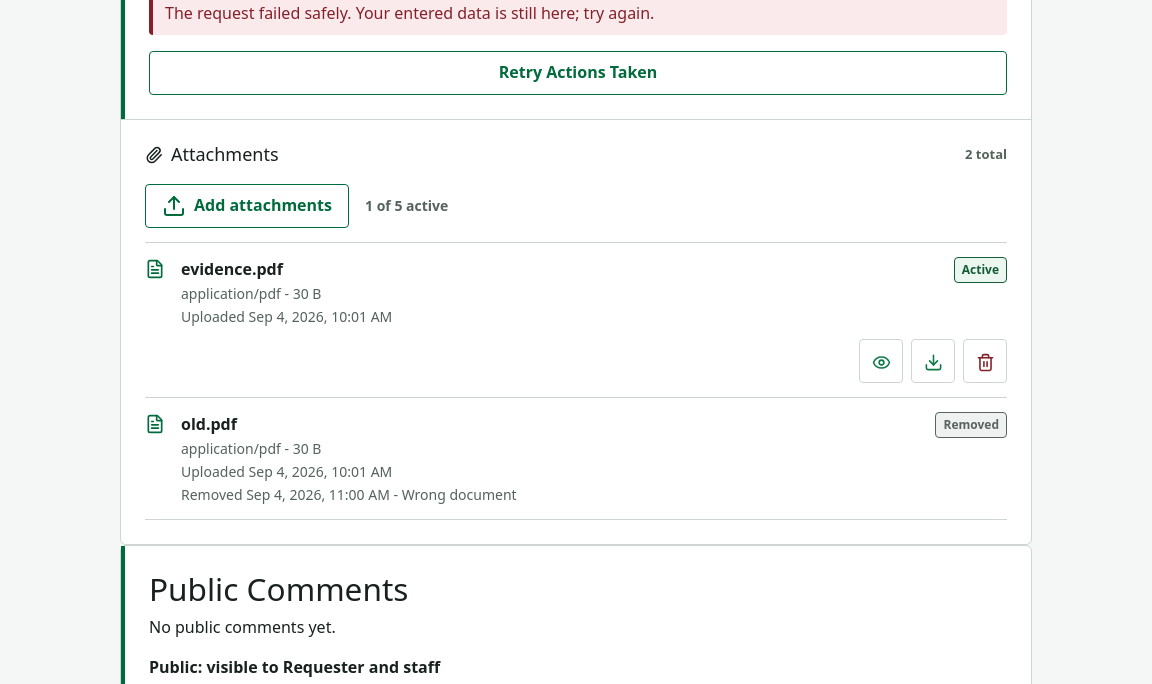
Test case: Ticket Detail attachment section › requires a reason, soft-removes metadata, and hides content actions
(page scrolled)
Click the button named "Remove evidence.pdf" at point(985, 360), box [963,338,1007,382]
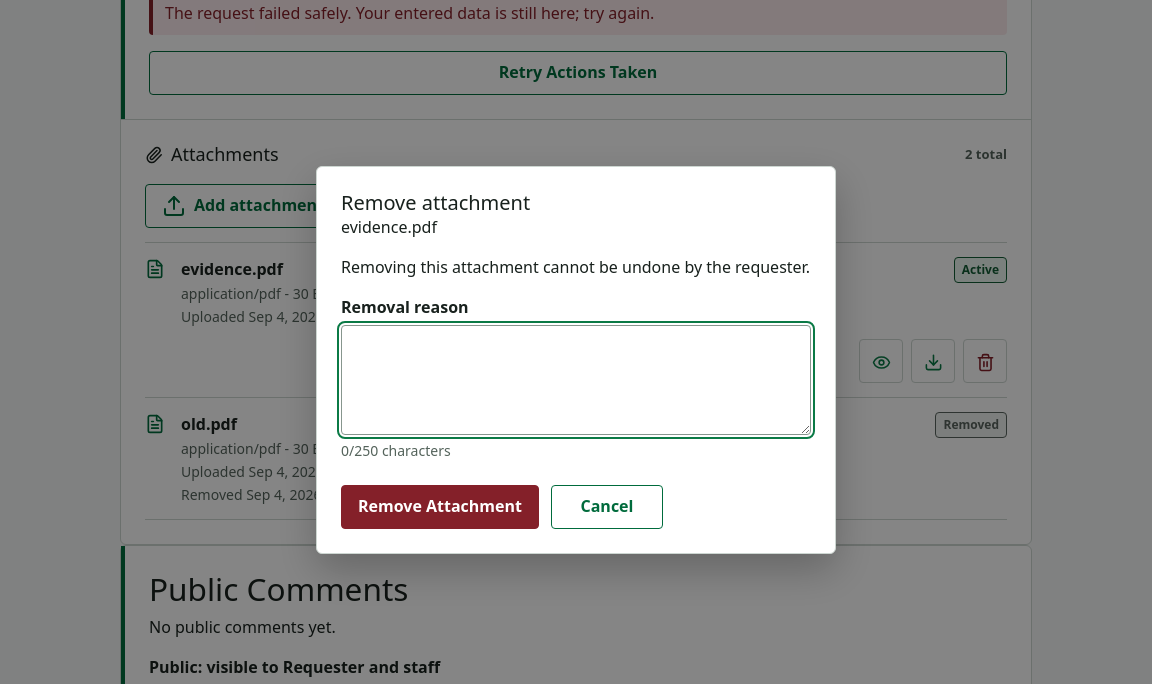
Click the button "Remove Attachment" at point(440, 507), box [341,485,539,529]
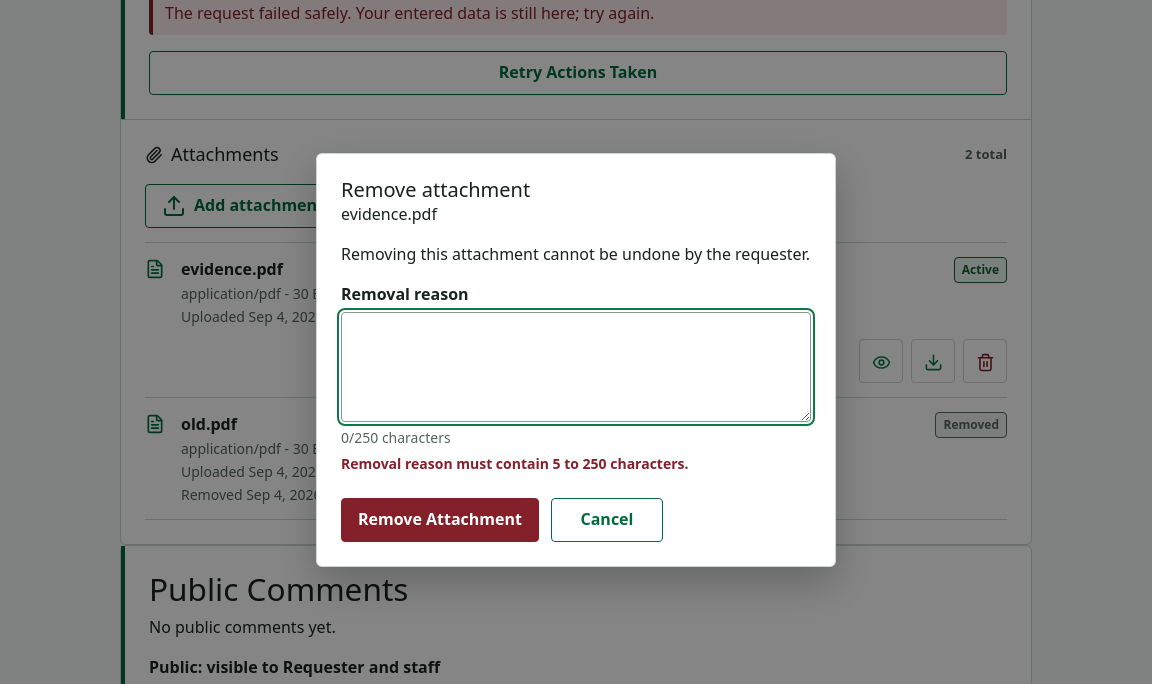
Expected: the text "Removal reason must contain 5 to 250 characters." is shown, [341,454,688,473]
Type "  Uploaded by mistake  " into the text box labelled "Removal reason" at point(576, 367), box [341,312,811,422]
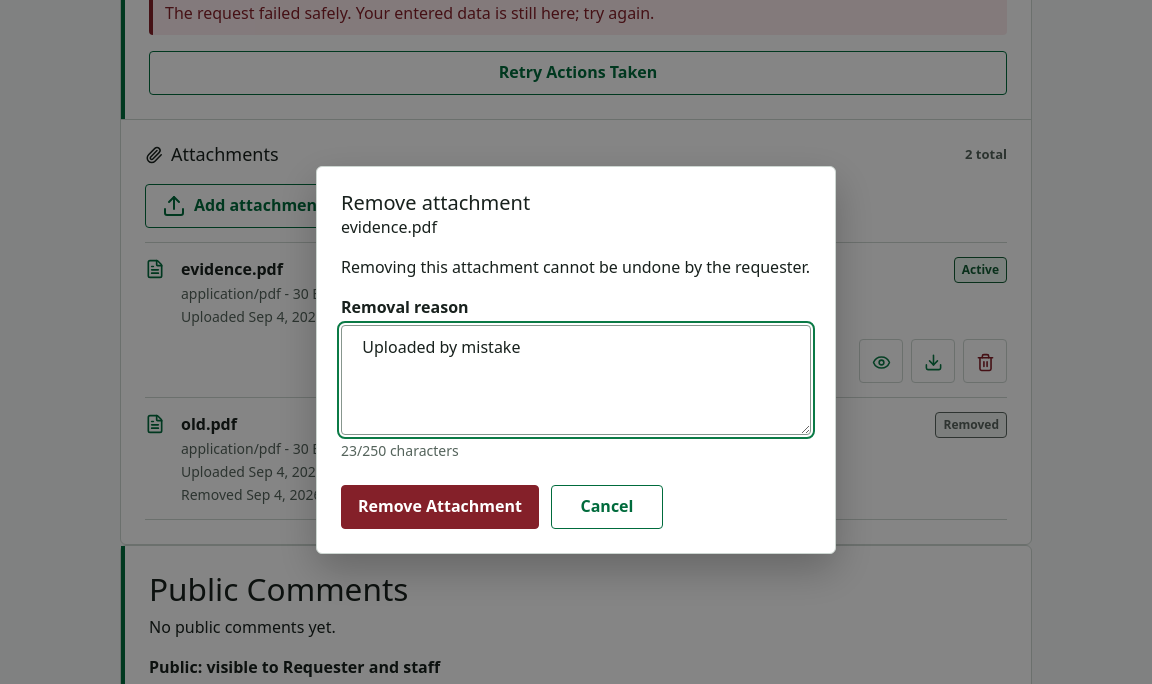
Click the button "Remove Attachment" at point(440, 507), box [341,485,539,529]
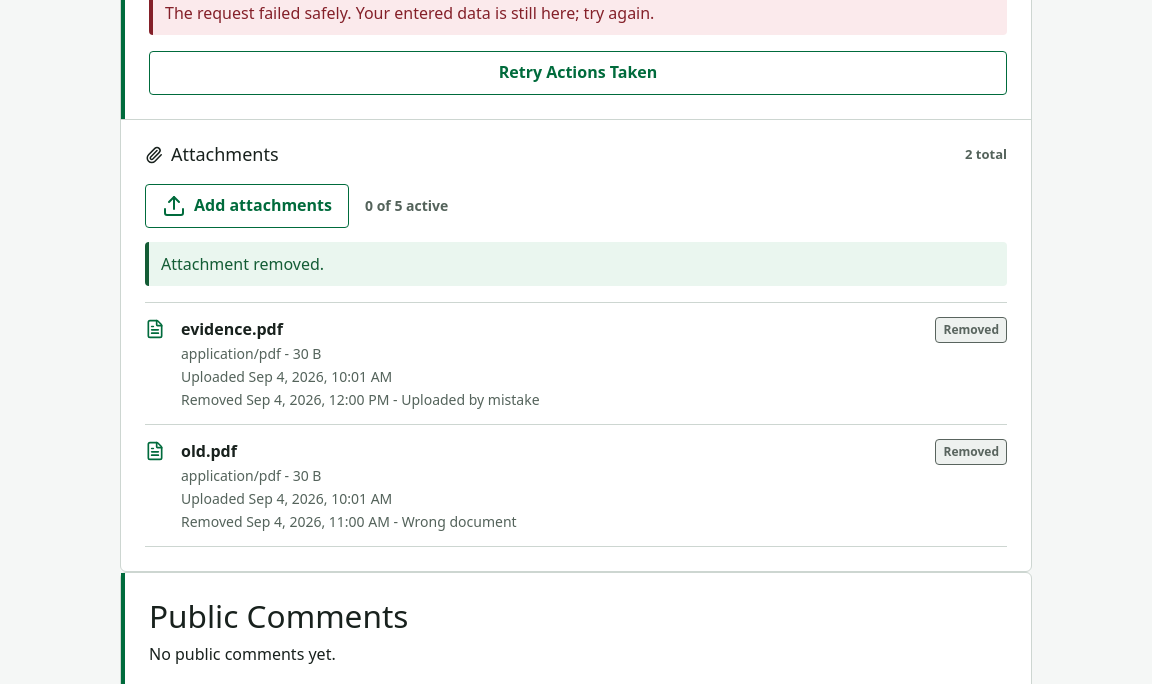
Expected: the text "Attachment removed." is shown, [145,242,1007,286]
Expected: the text "Removed Sep 4, 2026, 12:00 PM - Uploaded by mistake" is shown, [181,390,540,408]
